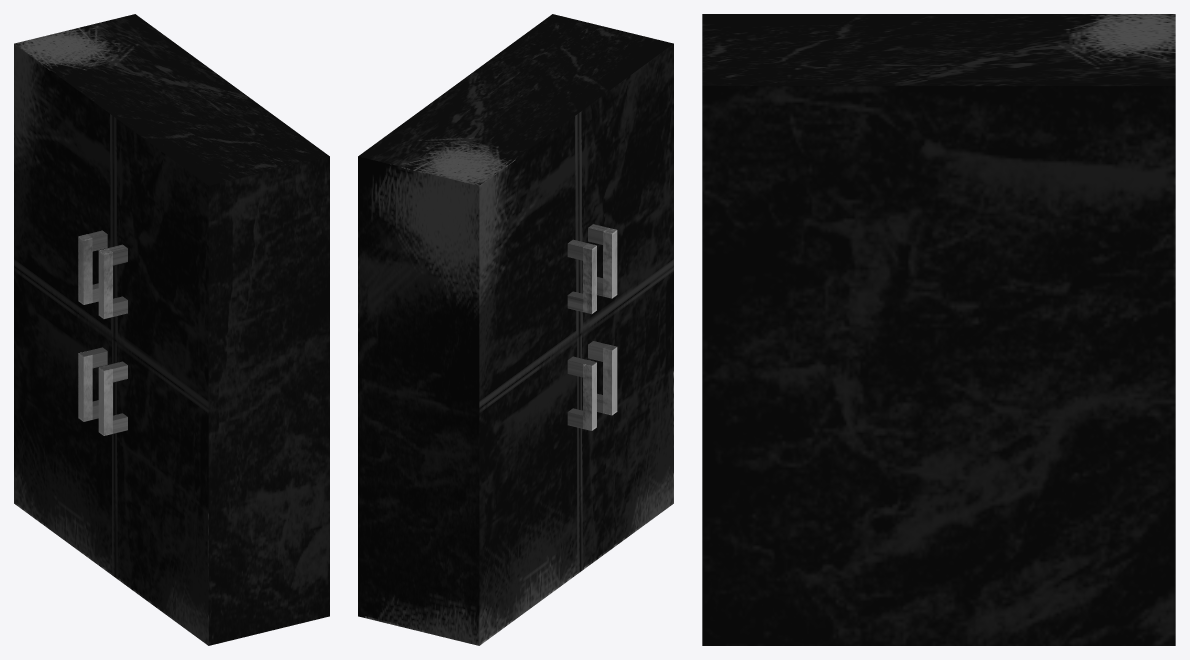
Rendered from riidekapp.glb.
3 views of the same model, side by side, from view 1: azimuth 30°, elevation 25°; view 2: azimuth 150°, elevation 25°; view 3: azimuth 270°, elevation 25° (orthographic). The views are drawn at different scales.
Parts seen in each view (by area): view 1: Cube.001, Cube; view 2: Cube.001, Cube; view 3: Cube.001.
Part boxes in pixels (x1,y1,x2,y2): Cube.001: (14, 14, 329, 645); Cube: (78, 230, 127, 435); Cube.001: (358, 14, 673, 645); Cube: (567, 224, 617, 430); Cube.001: (702, 14, 1175, 645).
Bounding box in the file's own units: 1.72 × 5.19 × 3.98.
Materials: 2 (2 with a texture image).
